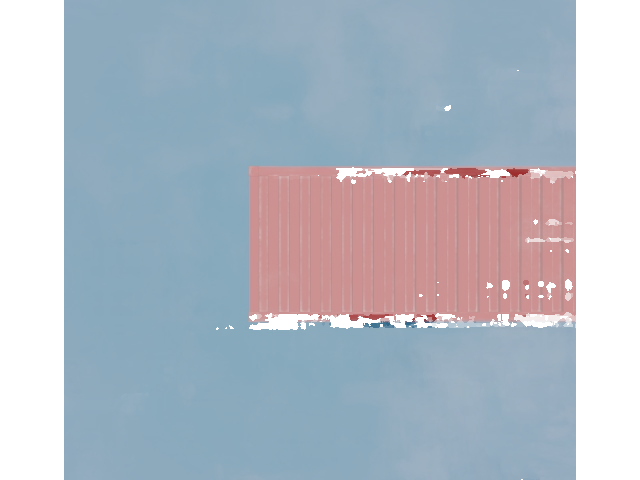container5: (250, 161, 639, 324)
